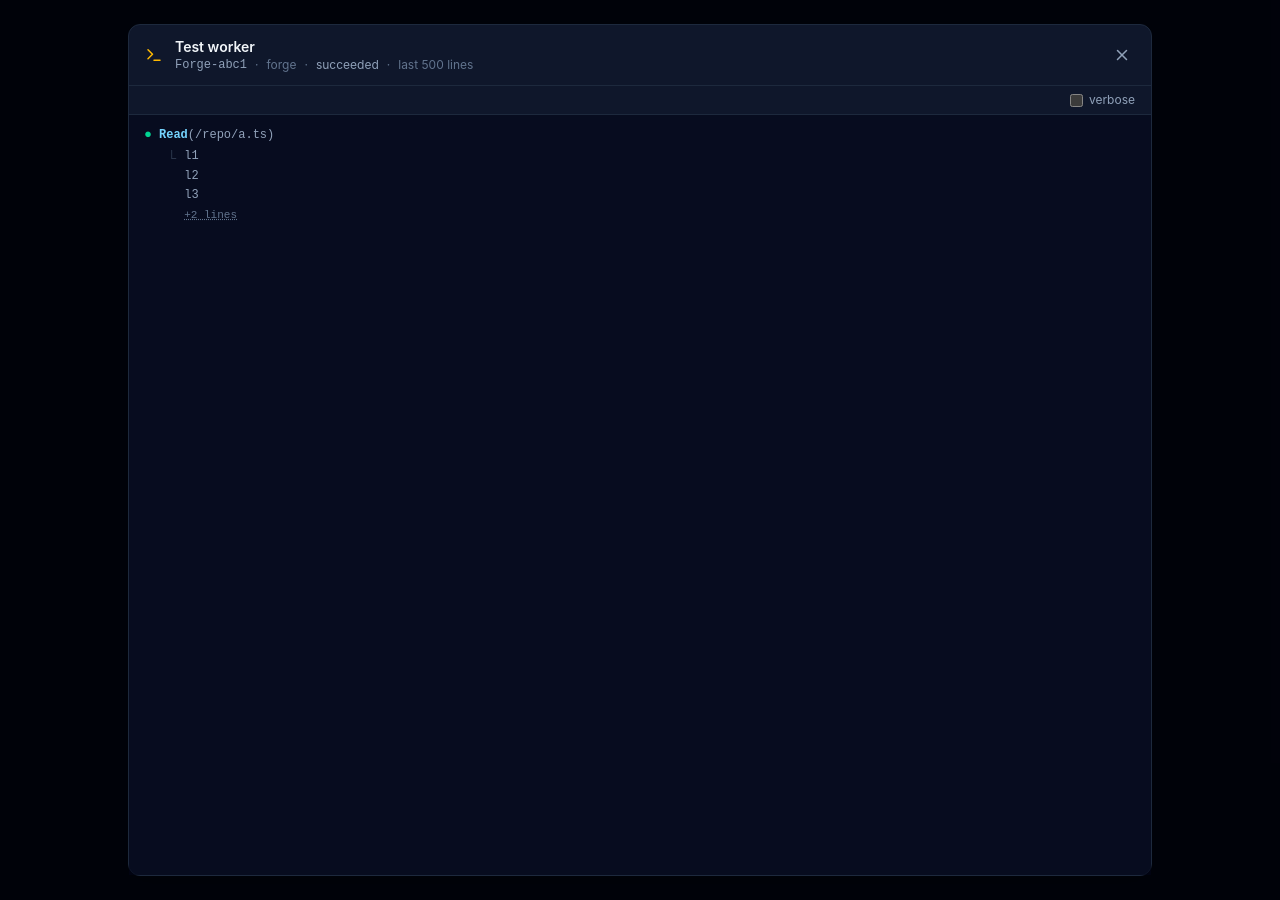
Test: WorkerLogModal transcript rendering › collapses a long tool result and expands it on click
This screenshot has width=1280, height=900.
Expected: the text "Read" is shown, [159,128,188,142]
Expected: the text "l5" is not shown
What coordinates should you click on to do the following:
click the button "+2 lines"
I would click on:
 (211, 215)
Its box is [184,208,237,222].
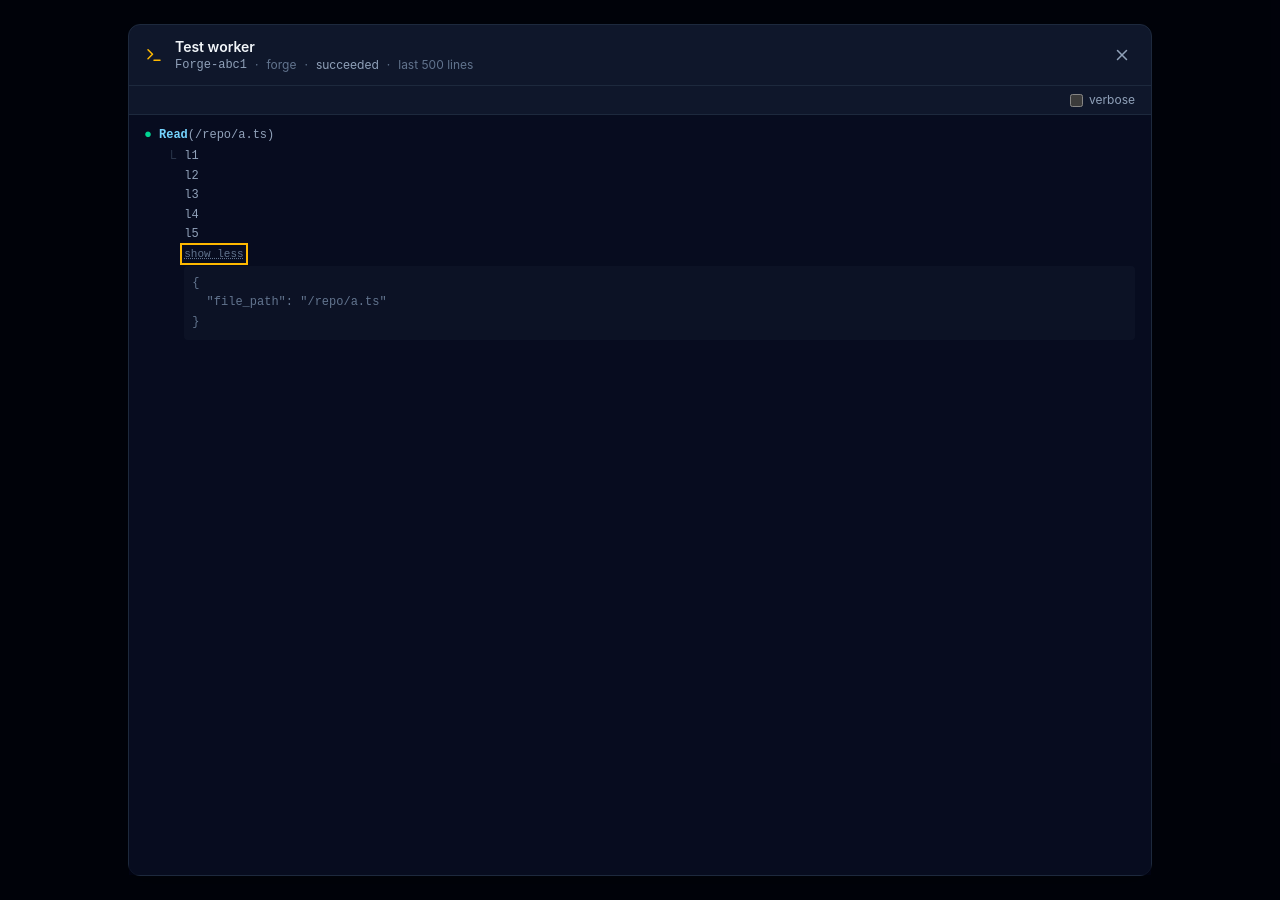
Expected: the element that starts with "Read" shows "l5", [184,149,199,241]
